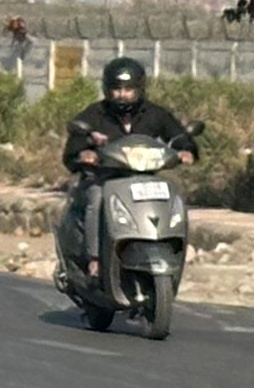BikeWithRider: (40, 51, 212, 343)
Helmet: (93, 52, 155, 115)
